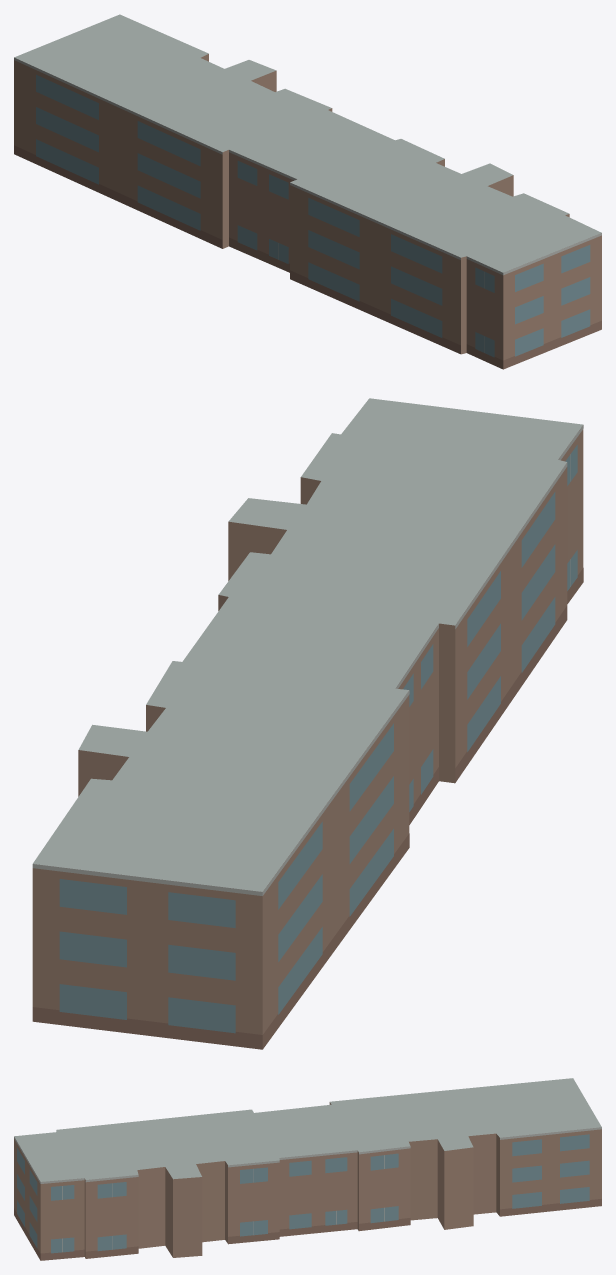
Rendered from survey-upis-33030864.glb.
3 views of the same model, one above another, from view 1: azimuth 30°, elevation 25°; view 2: azimuth 150°, elevation 25°; view 3: azimuth 270°, elevation 25° (orthographic). The views are drawn at different scales.
Visible parts, largest first — view 1: survey-upis-33030864.tmp; view 2: survey-upis-33030864.tmp; view 3: survey-upis-33030864.tmp.
Part boxes in pixels (x1,y1,x2,y2): survey-upis-33030864.tmp: [14, 14, 601, 369]; survey-upis-33030864.tmp: [32, 398, 583, 1049]; survey-upis-33030864.tmp: [14, 1078, 601, 1260].
Bounding box in the file's own units: 25.87 × 9.15 × 61.83.
